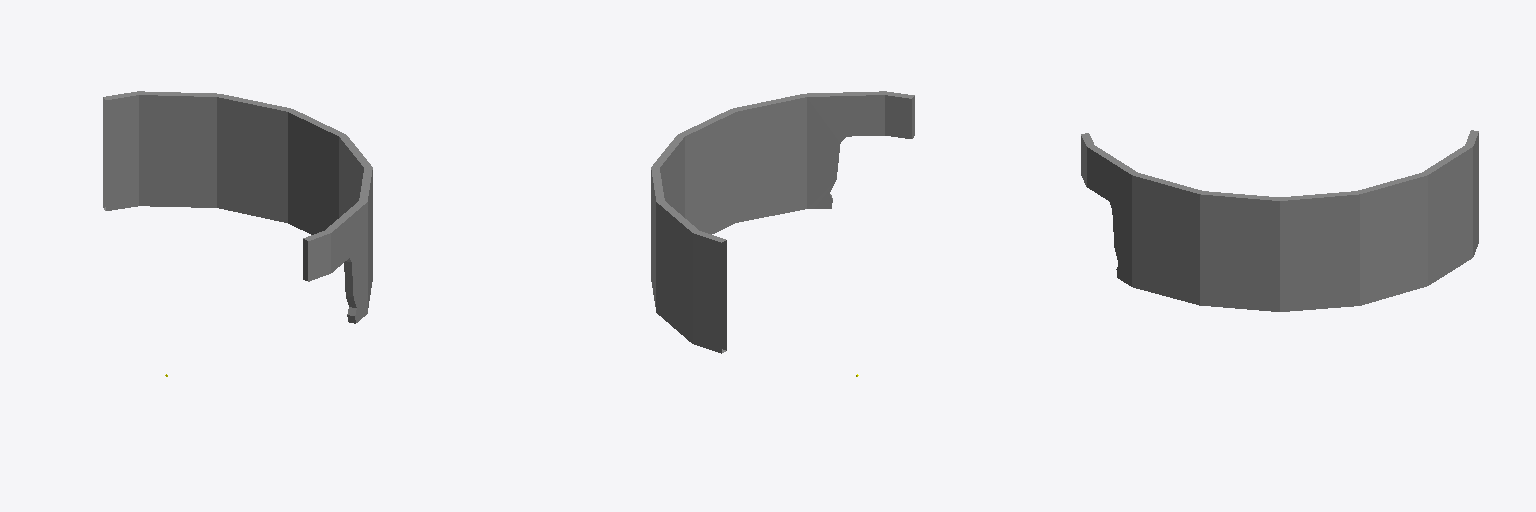
Rendered from cpz_obj_pipelinecapA_brk_001.obj.
3 views of the same model, side by side, from view 1: azimuth 30°, elevation 25°; view 2: azimuth 150°, elevation 25°; view 3: azimuth 270°, elevation 25° (orthographic).
Parts seen in each view (by area): view 1: ccp_metal_yy_floor3_Cmn_dpn, ccp_metal_yy_gray_Cmn_dpn; view 2: ccp_metal_yy_floor3_Cmn_dpn, ccp_metal_yy_gray_Cmn_dpn; view 3: ccp_metal_yy_floor3_Cmn_dpn, ccp_metal_yy_gray_Cmn_dpn.
Part boxes in pixels (x1,y1,x2,y2): ccp_metal_yy_floor3_Cmn_dpn: (103,95,372,322); ccp_metal_yy_gray_Cmn_dpn: (104,91,372,323); ccp_metal_yy_floor3_Cmn_dpn: (651,95,911,353); ccp_metal_yy_gray_Cmn_dpn: (651,91,914,352); ccp_metal_yy_floor3_Cmn_dpn: (1081,133,1478,311); ccp_metal_yy_gray_Cmn_dpn: (1081,130,1478,200).
Size of the model in its own units: 25.16 by 26.27 by 47.89.